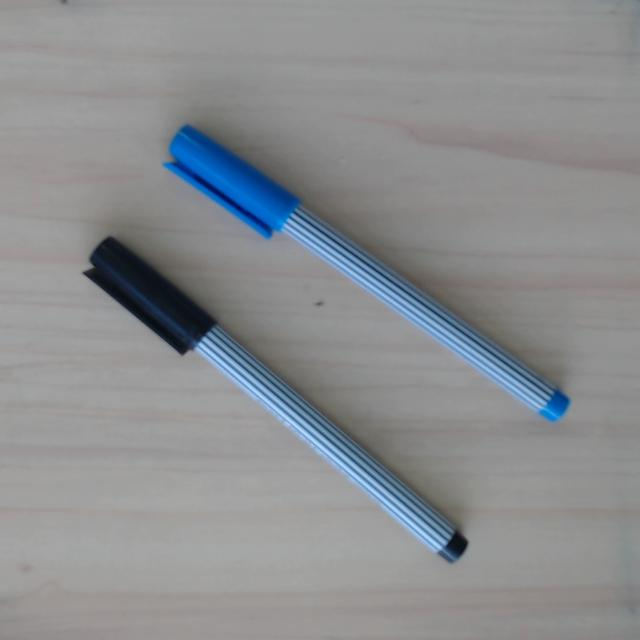Pulpen-Garis-Biru: (156, 119, 578, 437)
Pulpen-Garis-Hitam: (77, 232, 479, 573)
